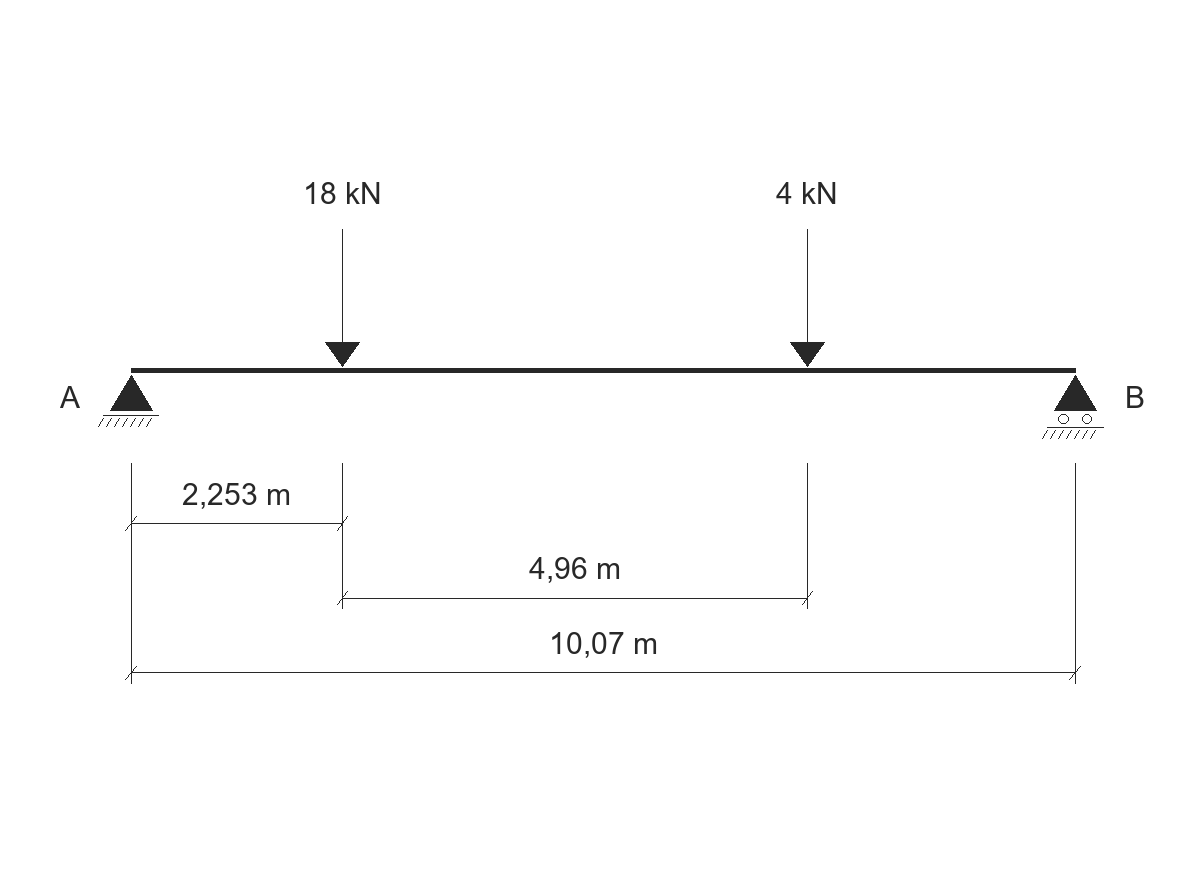pin_support: (98, 375, 159, 427)
point_load: (325, 229, 360, 367), (790, 229, 825, 367)
roller_support: (1042, 375, 1104, 439)
